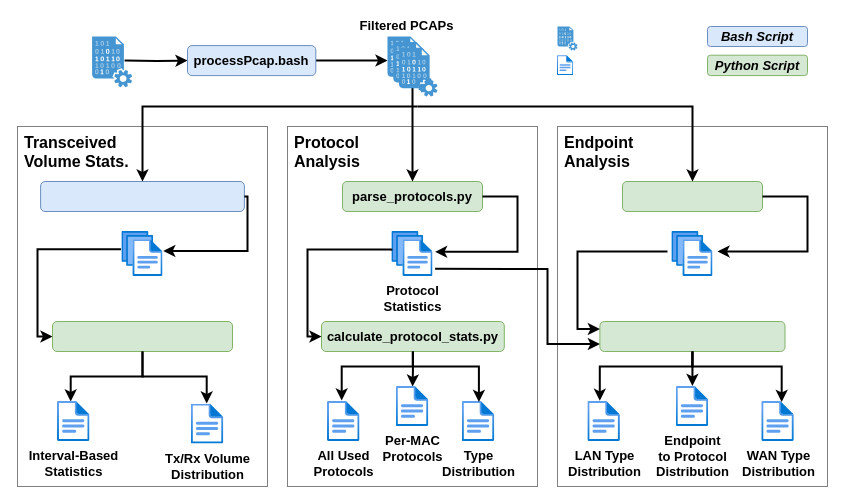
Some shapes in this 845 by 504 pixel diagram are drawn without their labels. Each missing label, with the centre of its shape:
calculate_endpoint_stats.py: pixel 692 336
calculate_overall_stats.py: pixel 142 336
CSV Output File: pixel 565 65
Endpoint Statistics: pixel 691 253
generateStatsForIntervals.bash: pixel 142 196
Master PCAP: pixel 112 61
parse_endpoints.py: pixel 692 196
PCAP Capture File: pixel 567 38
Tx/Rx Volume Statistics: pixel 141 253
